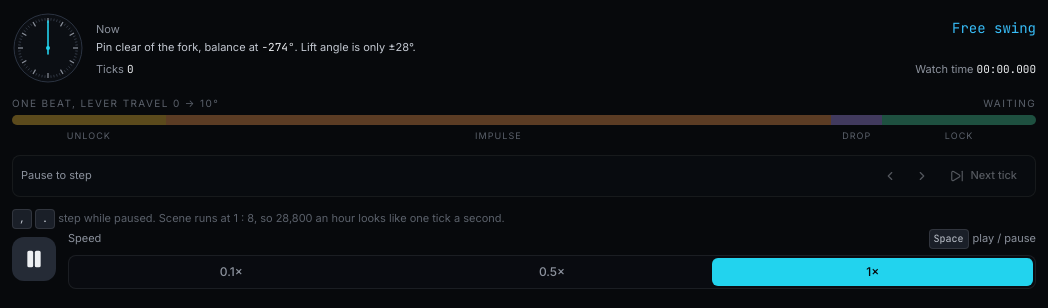
Test: BeatReadout › reports the beat, keeps the stepper for paused mode, and steps a whole tick
Expected: the text "Free swing" is shown, [952,18,1036,38]
Expected: the progress indicator named "beat progress" is shown, [12,115,1036,125]
Click the button named "pause" at x=34, y=258, box [12,236,56,280]
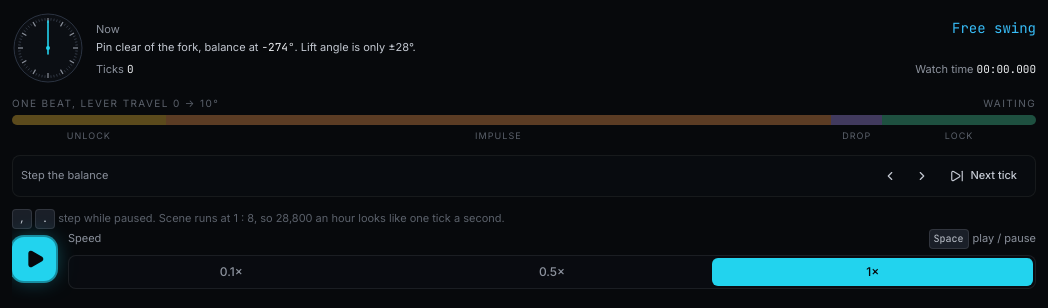
Expected: the button "Next tick" is enabled
Click the button "Next tick" at x=984, y=176, box [940,162,1027,190]
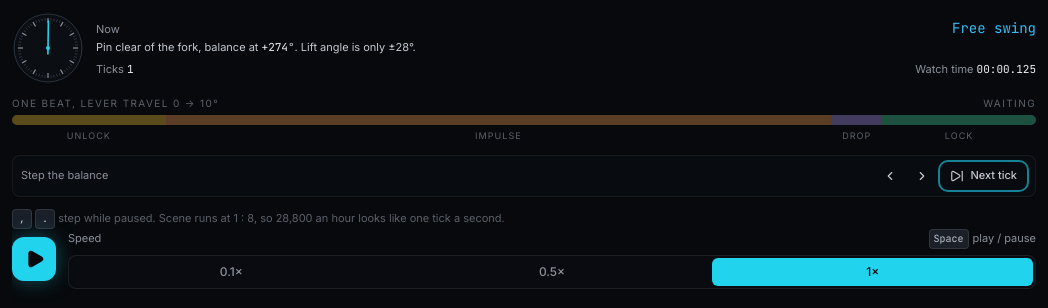
Expected: the text "1" is shown, [127,62,134,76]
Expected: the text "00:00.125" is shown, [977,62,1036,76]
